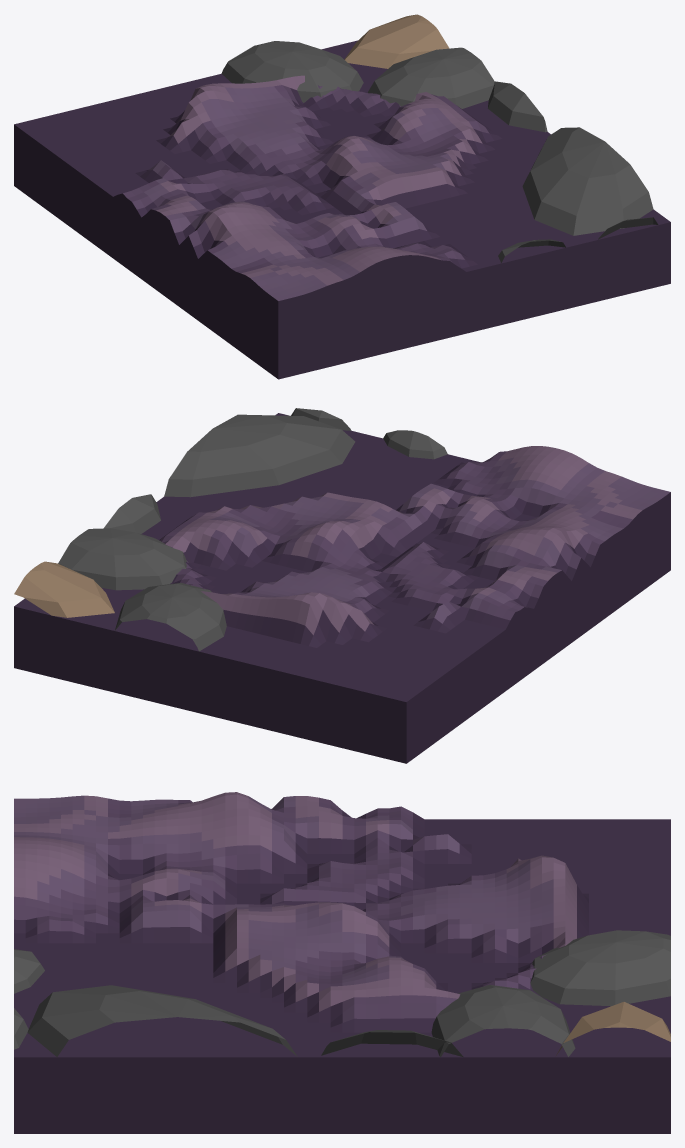
3 renders of one model, top to bottom at view 1: azimuth 30°, elevation 25°; view 2: azimuth 150°, elevation 25°; view 3: azimuth 270°, elevation 25°, orthographic. The views are drawn at different scales.
Parts seen in each view (by area): view 1: shapesz-t157; view 2: shapesz-t157; view 3: shapesz-t157.
Boxes of the visible parts, x1,y1,x2,y2 form: shapesz-t157: [14, 14, 670, 379]; shapesz-t157: [14, 408, 670, 763]; shapesz-t157: [14, 792, 670, 1133].
Size of the model in its own units: 2 by 0.4813 by 2.33.
